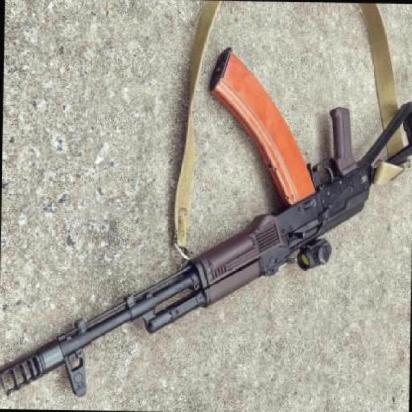Gun: (0, 55, 412, 393)
